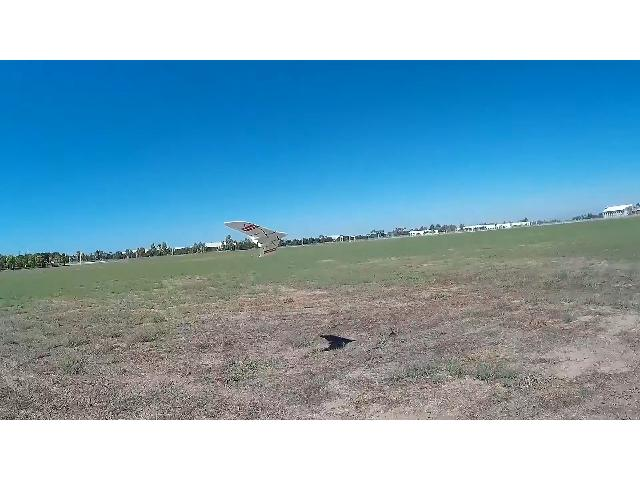Anti-Drone: (224, 222, 286, 256)
